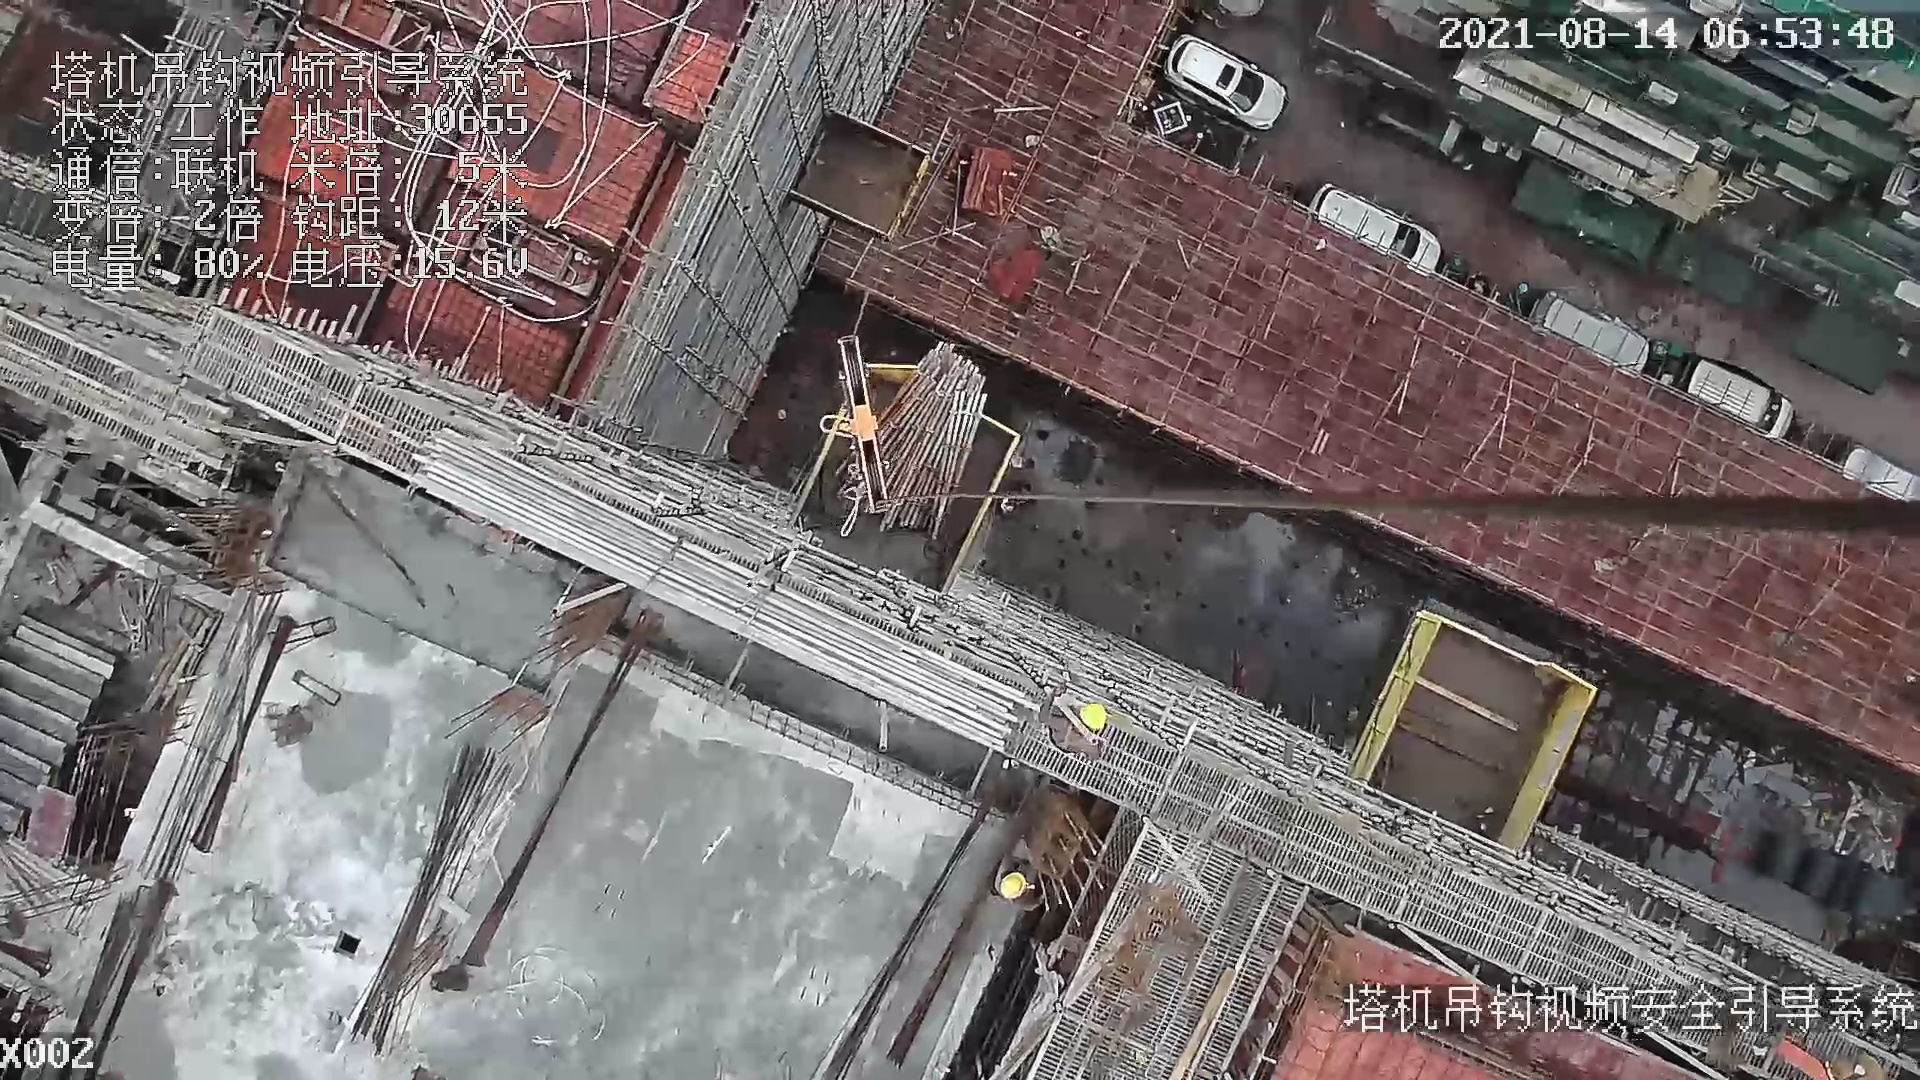helmet: (999, 872, 1026, 899), (1080, 703, 1104, 729)
hook: (819, 331, 900, 517)
person: (1035, 677, 1110, 760), (992, 851, 1053, 917)
rebar: (406, 428, 1030, 752), (346, 745, 514, 1060)
scaffold: (837, 341, 988, 541)
